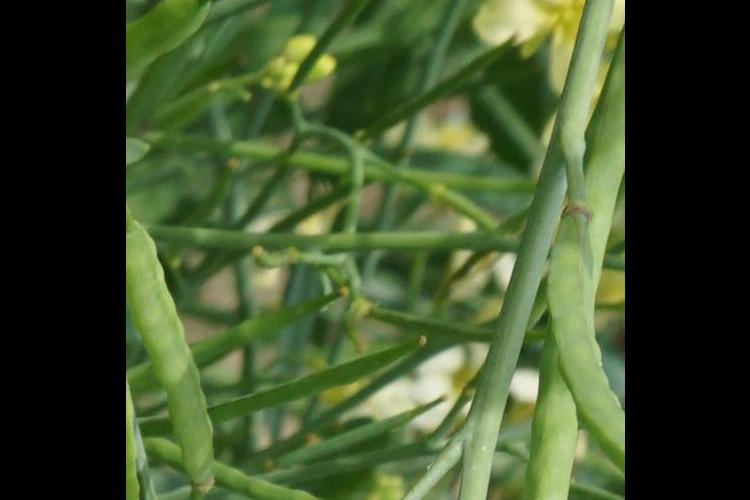pod: (215, 313, 447, 423), (287, 1, 390, 116), (223, 272, 375, 345), (127, 1, 236, 86), (506, 430, 596, 500)
white: (482, 1, 616, 137)
